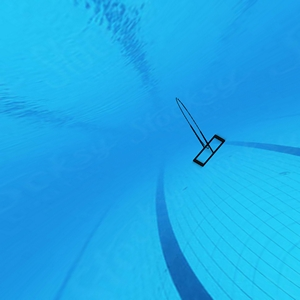circle: (172, 96, 227, 169)
